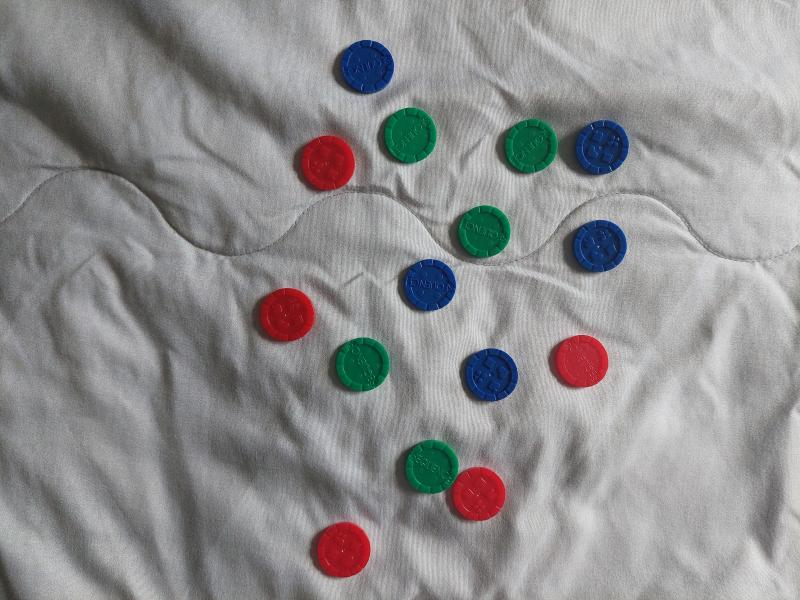Blue_Token: (570, 116, 636, 180), (334, 38, 399, 98), (399, 253, 460, 316), (569, 216, 630, 276), (463, 347, 521, 403)
Green_Token: (330, 332, 395, 398), (378, 103, 439, 168), (402, 436, 464, 498), (455, 200, 516, 262), (502, 115, 561, 177)
Red_Token: (312, 520, 380, 584), (296, 131, 360, 198), (550, 329, 614, 393), (449, 463, 508, 526), (258, 283, 317, 346)
